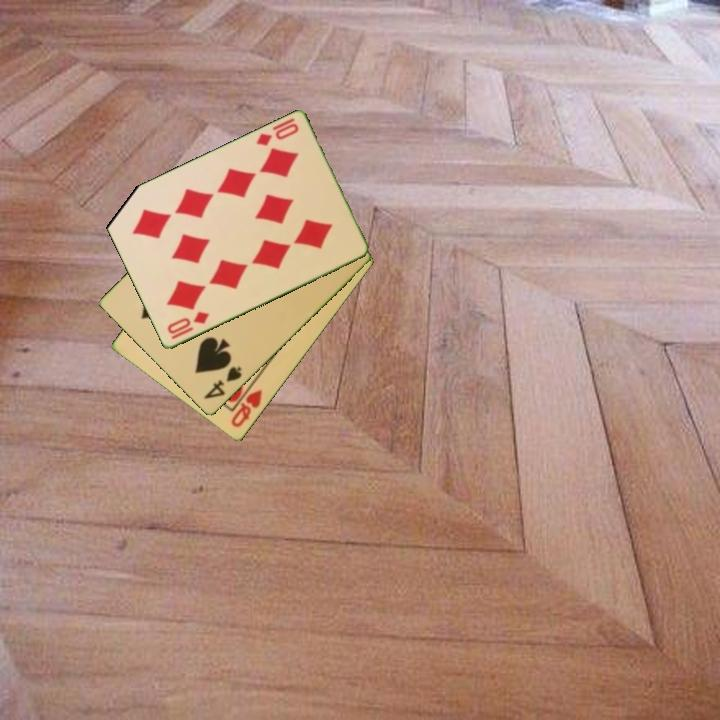10d: (163, 308, 212, 343), (253, 120, 302, 149)
4s: (200, 363, 245, 403)
Qh: (227, 386, 265, 431)
